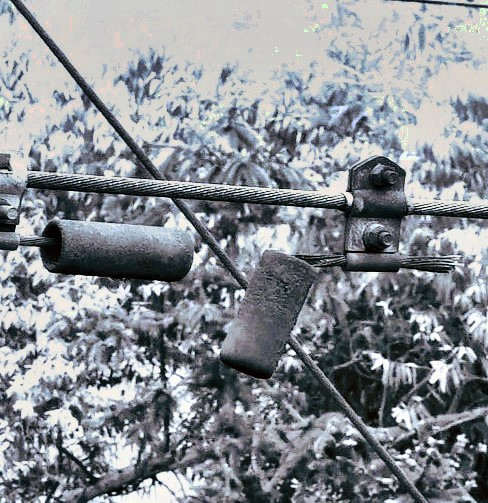Damage of shockproof hammer: (212, 149, 469, 381)
